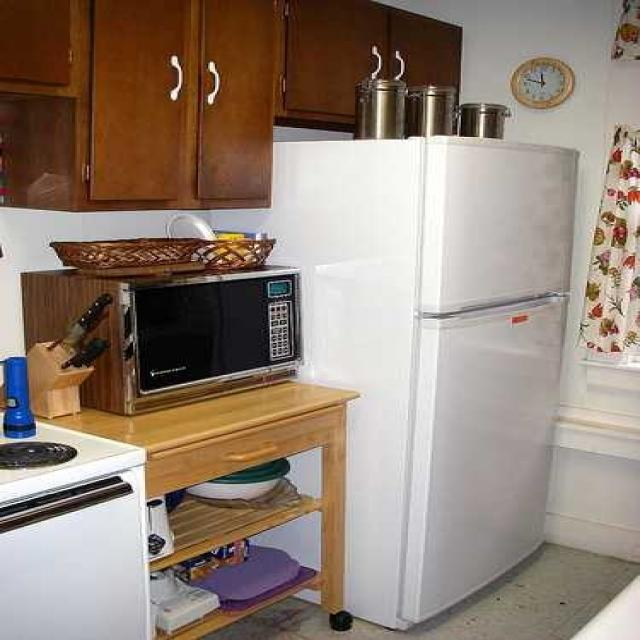refrigerator: (288, 123, 582, 640)
